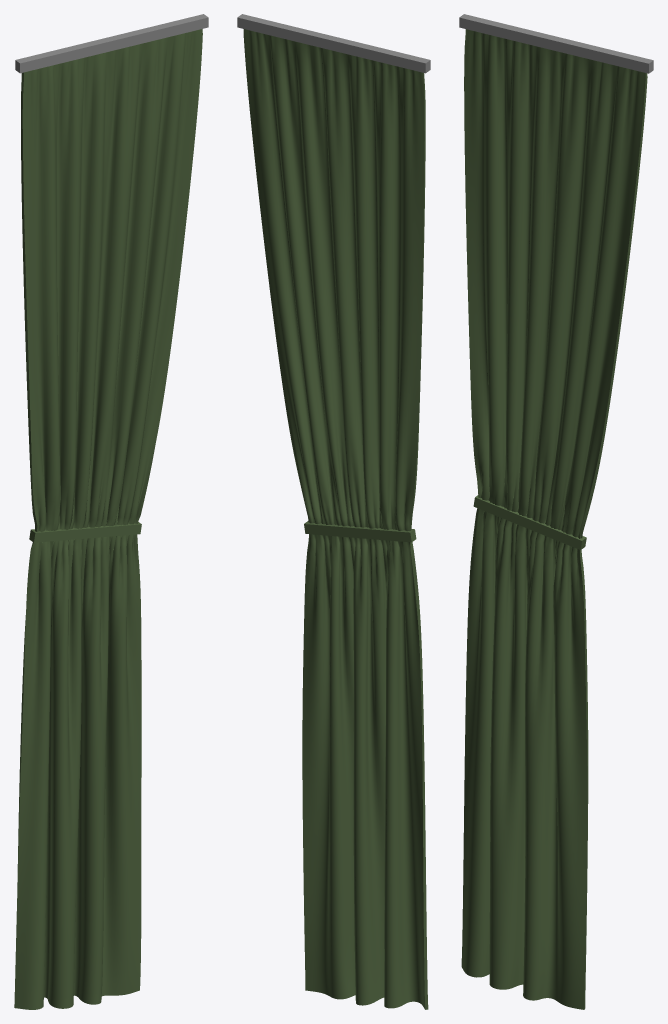
The model's file is 左邊窗簾 (1).fbx.
3 renders of one model, left to right at view 1: azimuth 30°, elevation 25°; view 2: azimuth 150°, elevation 25°; view 3: azimuth 330°, elevation 25°, orthographic.
Visible parts, largest first — view 1: Plane001, Box001, Box002; view 2: Plane001, Box001, Box002; view 3: Plane001, Box001, Box002.
Part boxes in pixels (x1=…): Plane001: x1=14, y1=29, x2=202, y2=1009; Box001: x1=15, y1=14, x2=208, y2=73; Box002: x1=29, y1=522, x2=141, y2=542; Plane001: x1=243, y1=29, x2=428, y2=1009; Box001: x1=237, y1=14, x2=430, y2=73; Box002: x1=304, y1=521, x2=416, y2=542; Plane001: x1=461, y1=29, x2=647, y2=1009; Box001: x1=459, y1=14, x2=653, y2=73; Box002: x1=473, y1=495, x2=586, y2=549.
Size of the model in its own units: 45.87 by 221 by 7.07.
